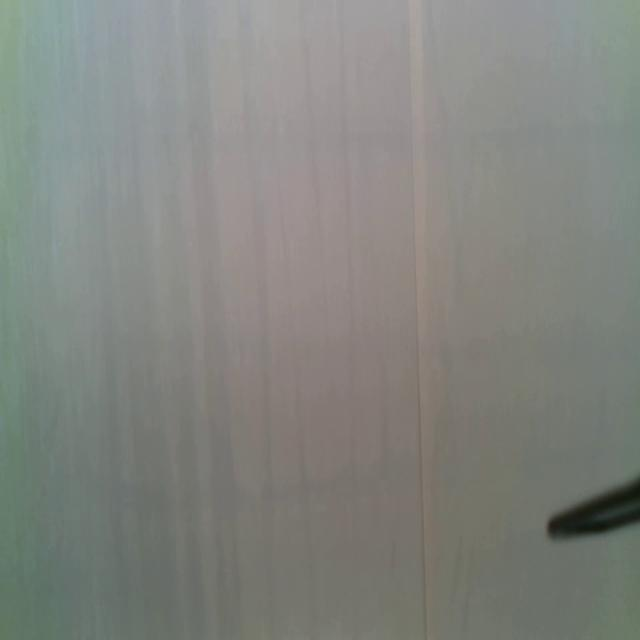crease: (405, 0, 430, 640)
